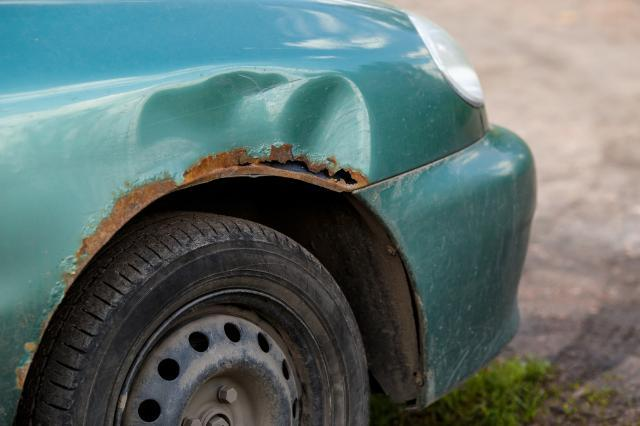crack: (237, 158, 362, 188)
dent: (134, 69, 374, 183)
scratch: (67, 175, 179, 286)
